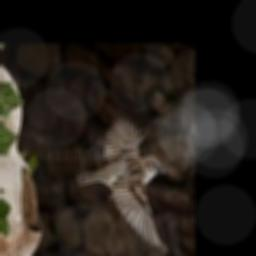Sparrow: (76, 116, 170, 254)
